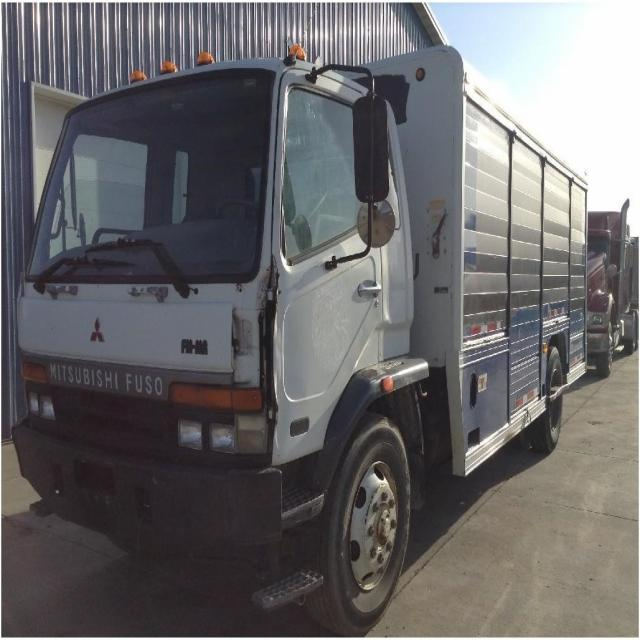truck: (12, 44, 588, 635)
